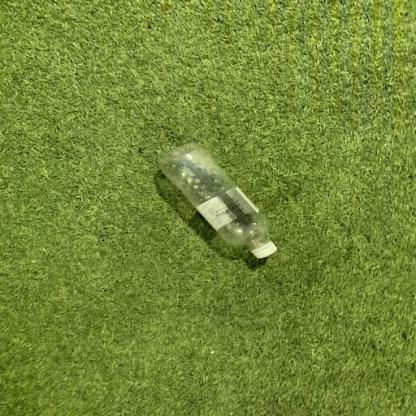trash: (155, 142, 280, 260)
